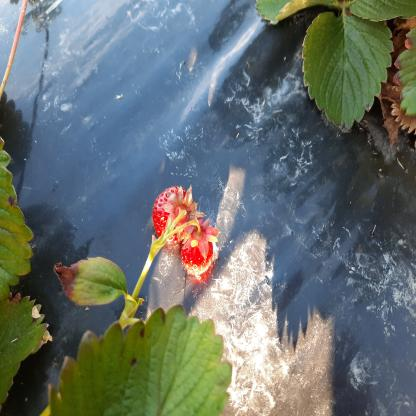ripe: (154, 191, 198, 241), (184, 226, 213, 275)
